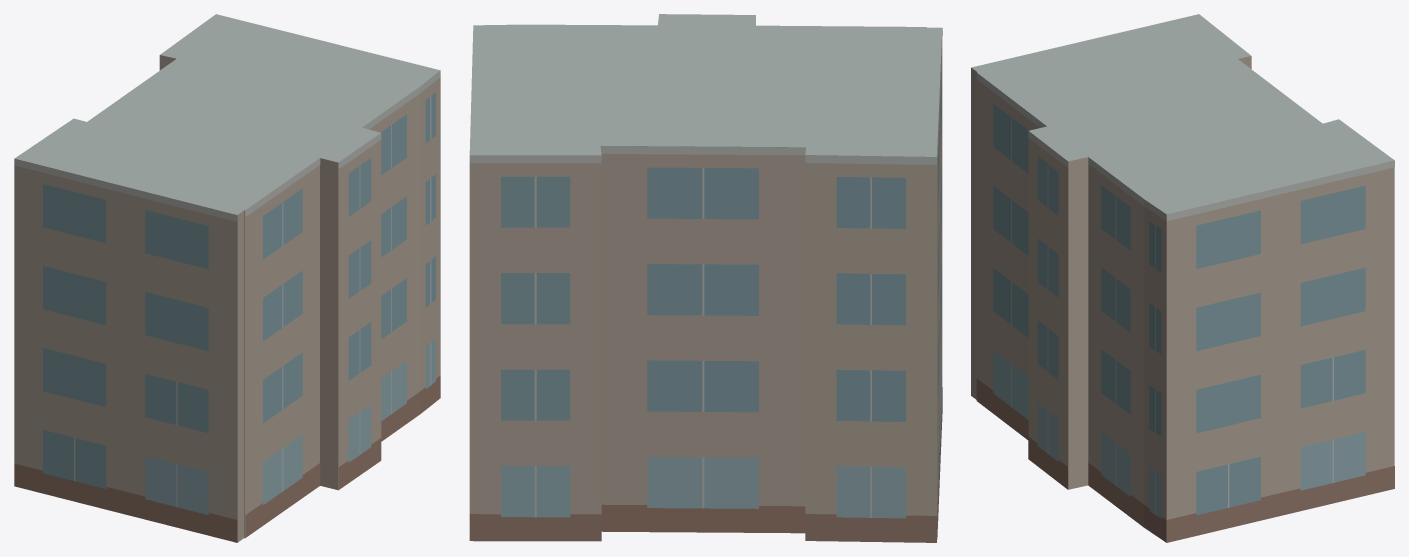
Rendered from survey-upis-32837279.glb.
The picture shows the model from 3 angles, left to right: view 1: azimuth 30°, elevation 25°; view 2: azimuth 150°, elevation 25°; view 3: azimuth 270°, elevation 25°; orthographic projection. The views are drawn at different scales.
Visible parts, largest first — view 1: survey-upis-32837279.tmp; view 2: survey-upis-32837279.tmp; view 3: survey-upis-32837279.tmp.
Part boxes in pixels (box(x1,y1,x2,y2)): survey-upis-32837279.tmp: box(14, 14, 440, 542); survey-upis-32837279.tmp: box(469, 14, 942, 542); survey-upis-32837279.tmp: box(971, 14, 1394, 542).
Bounding box in the file's own units: 15.26 × 11.65 × 13.63.
